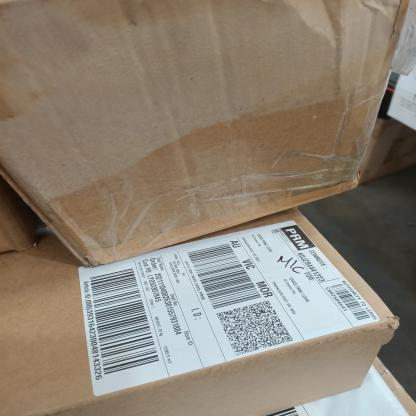label: (52, 211, 385, 396)
package: (0, 0, 416, 228), (0, 205, 403, 411)
